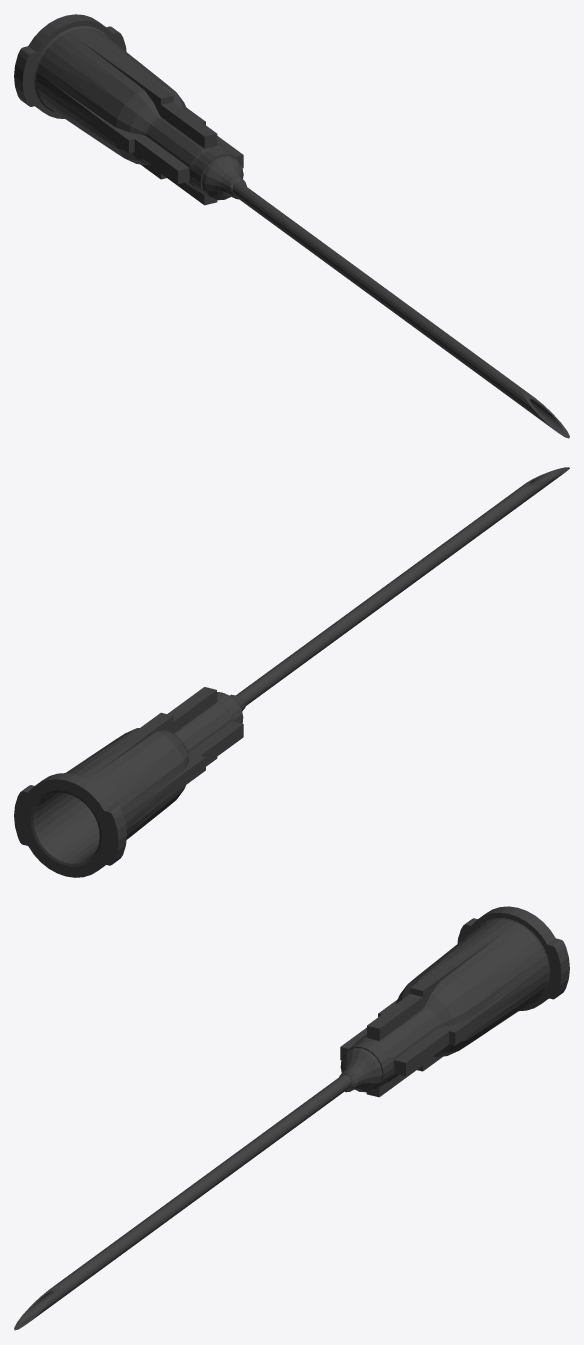
The model's file is Needle.glb.
3 renders of one model, top to bottom at view 1: azimuth 30°, elevation 25°; view 2: azimuth 150°, elevation 25°; view 3: azimuth 330°, elevation 25°, orthographic.
Visible parts, largest first — view 1: Needle; view 2: Needle; view 3: Needle.
Boxes of the visible parts, left/top/right/bottom form: Needle: left=14, top=14, right=569, bottom=438; Needle: left=14, top=467, right=569, bottom=877; Needle: left=14, top=906, right=569, bottom=1330.
Bounding box in the file's own units: 2.63 × 2.31 × 21.97.
Materials: 1 (1 with a texture image).
